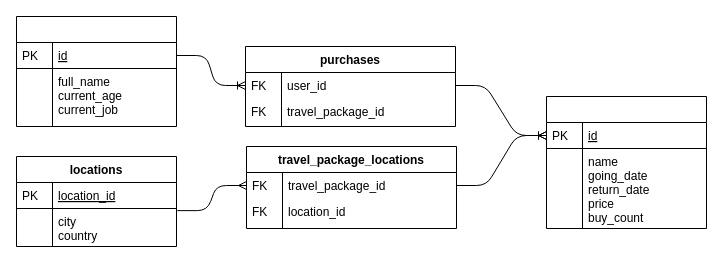
Image size: 723x263. Some labels were removed from this diagram. The shapes that lost their labels are listed below. From the top down, each one's box as (x1, y1, x2, y2) in pixels, then its label:
(16, 16, 176, 126): users
(546, 96, 706, 228): travel_packages
